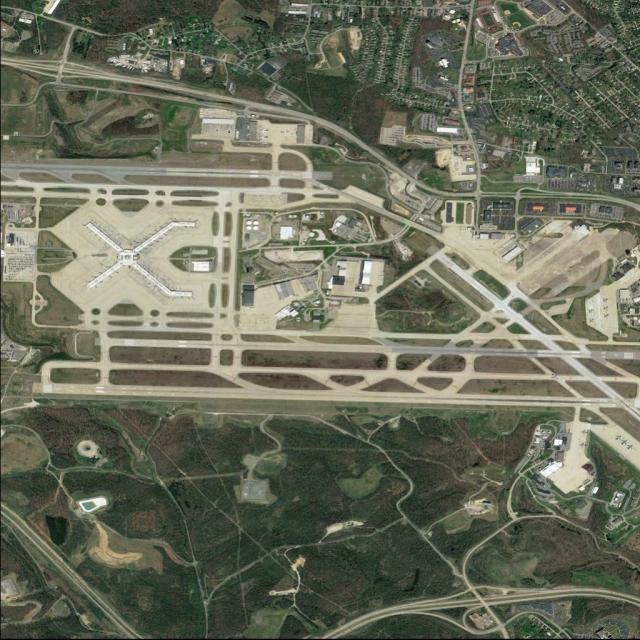plane: (612, 433, 624, 444), (619, 437, 630, 448), (625, 442, 636, 452), (258, 126, 269, 134), (259, 134, 268, 141)
